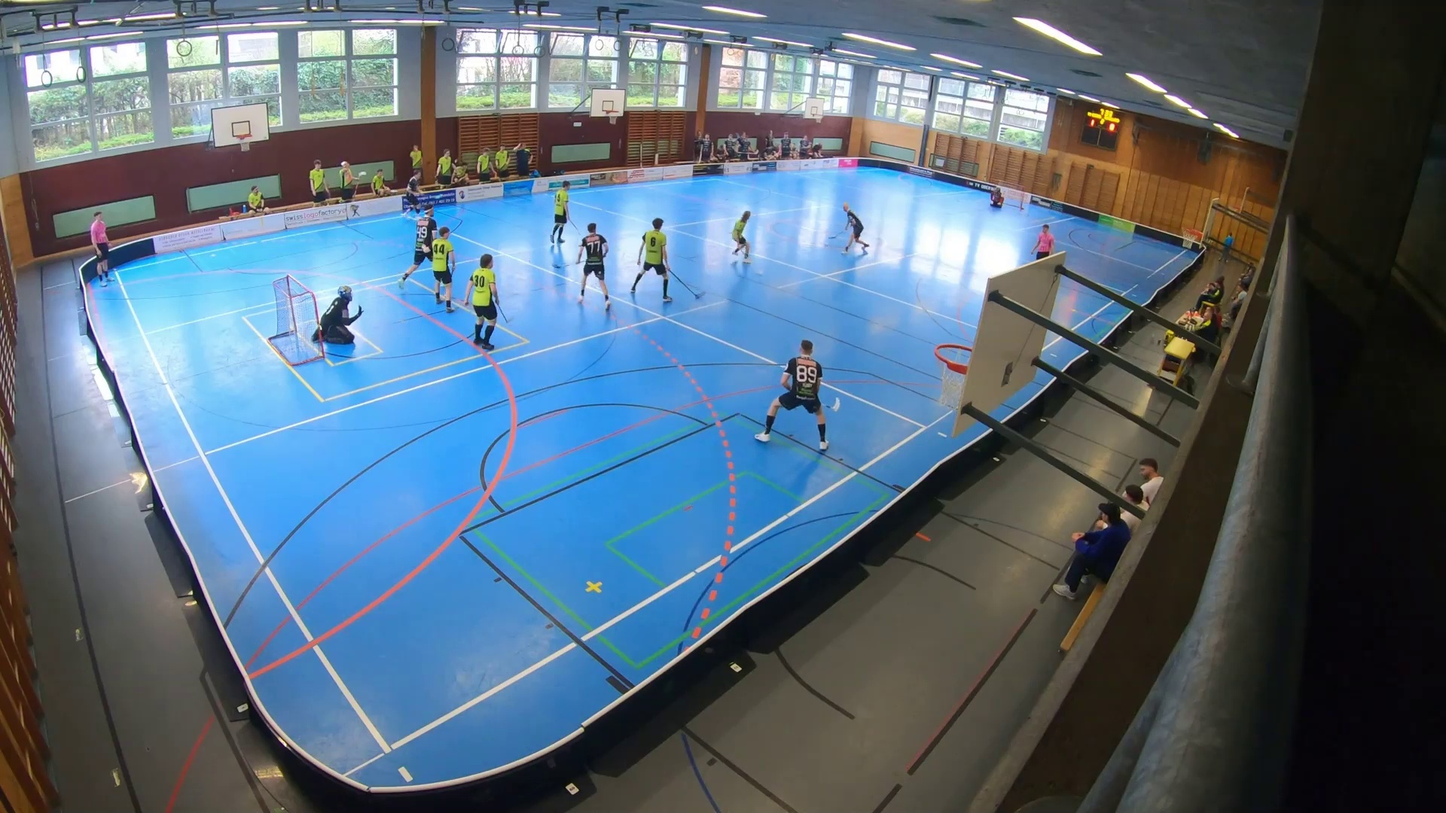Schiri: (81, 207, 120, 288), (1028, 225, 1060, 264)
ball: (825, 242, 830, 248)
goalkeeper: (313, 286, 362, 344), (987, 183, 1006, 212)
player: (749, 334, 848, 458), (629, 213, 708, 308), (553, 216, 615, 315), (462, 245, 514, 361), (391, 198, 440, 294), (723, 200, 770, 282), (825, 195, 877, 257), (428, 224, 460, 314), (543, 178, 584, 244), (392, 168, 425, 219)
